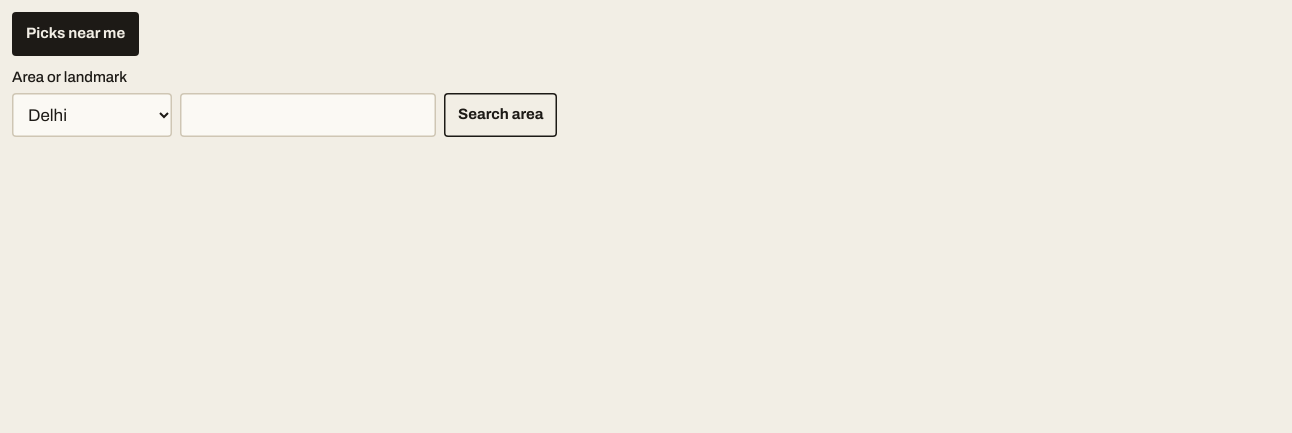
HomeNearMe › says a typed area went to OpenStreetMap when the lookup was not local
Type "Somewhere" into the search field labelled "Area or landmark" at (308, 115), box left=180, top=93, right=436, bottom=137
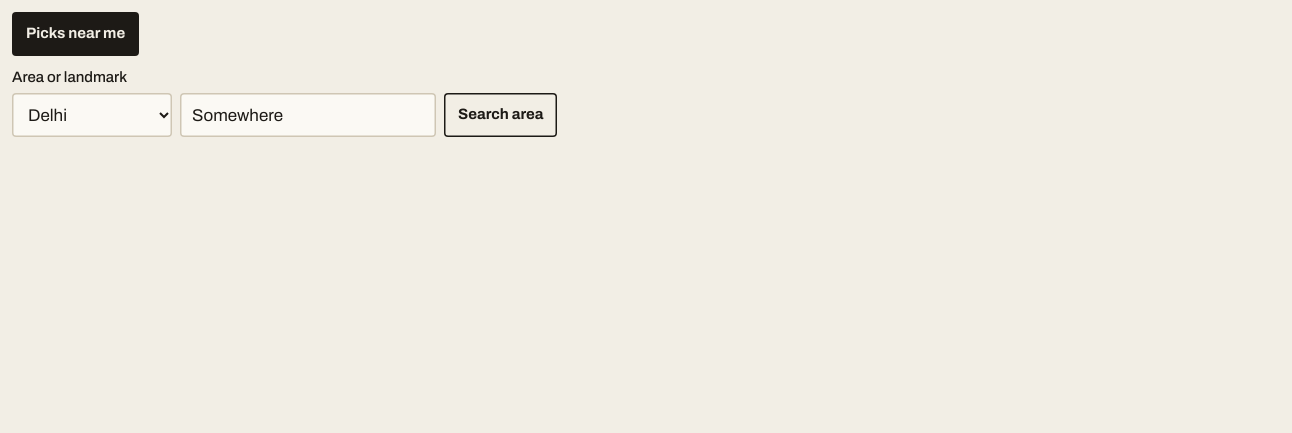
Click the button "Search area" at (501, 115), box left=444, top=93, right=558, bottom=137
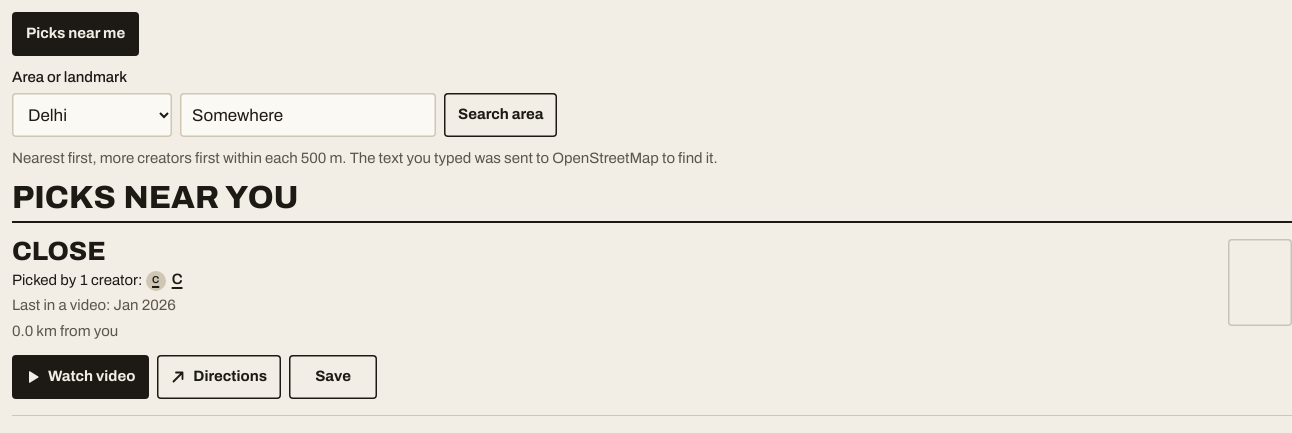
Check: the link "close" is shown, box left=12, top=237, right=106, bottom=266
Check: the message shows "The text you typed was sent to OpenStreetMap to find it.", box left=12, top=151, right=718, bottom=167
